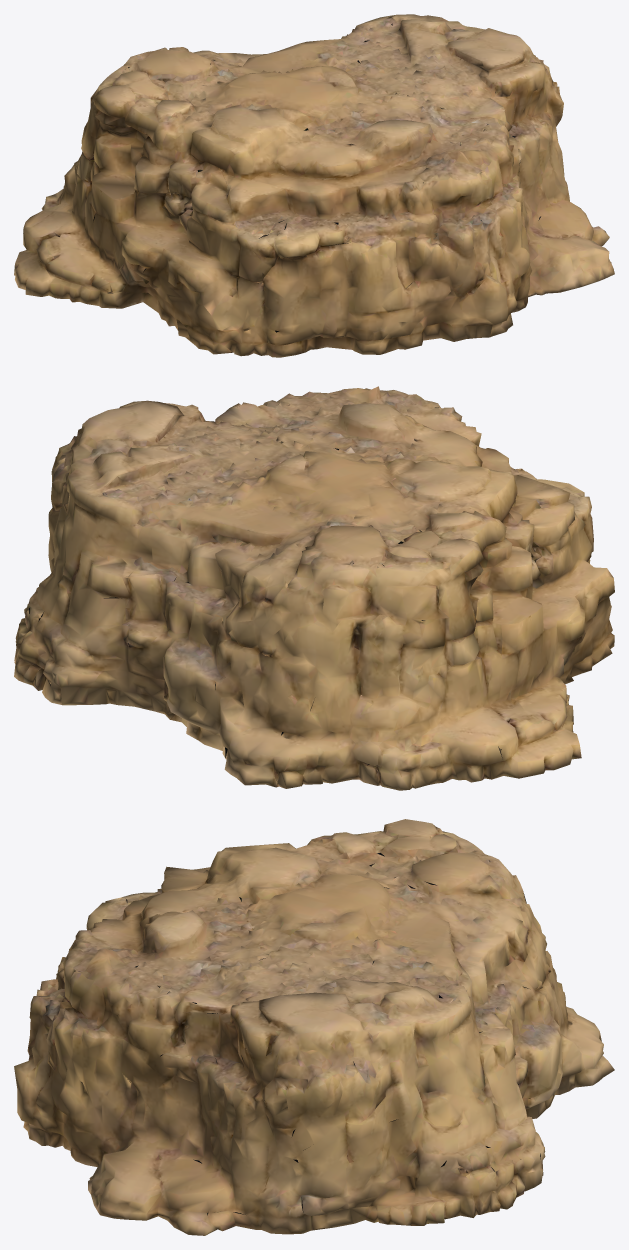
File: mesa_formation.glb
3 renders of one model, top to bottom at view 1: azimuth 30°, elevation 25°; view 2: azimuth 150°, elevation 25°; view 3: azimuth 270°, elevation 25°, orthographic. The views are drawn at different scales.
Visible parts, largest first — view 1: mesa_formation_00; view 2: mesa_formation_00; view 3: mesa_formation_00.
Boxes of the visible parts, x1=… form: mesa_formation_00: x1=14, y1=14, x2=614, y2=357; mesa_formation_00: x1=14, y1=386, x2=614, y2=790; mesa_formation_00: x1=14, y1=819, x2=614, y2=1235.
Size of the model in its own units: 1.9 by 0.6192 by 1.75.
1 material, 1 textured.
